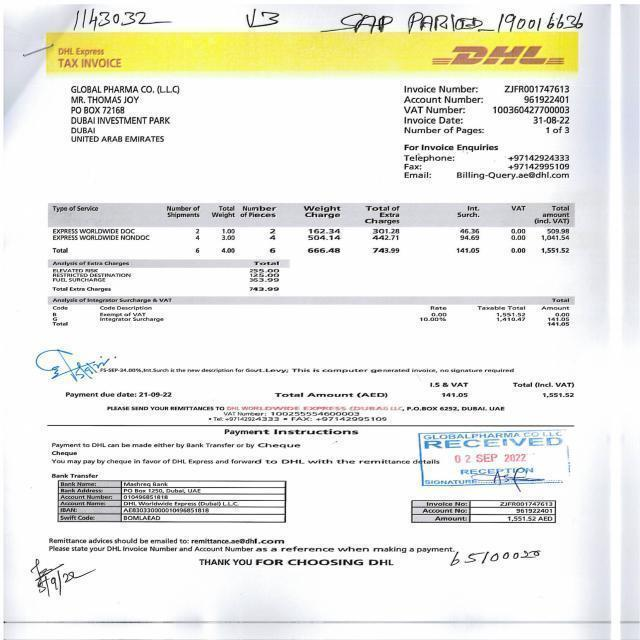ROI: (47, 201, 574, 254), (47, 296, 574, 333), (397, 83, 573, 183), (48, 427, 445, 470), (38, 472, 300, 523), (417, 428, 576, 488), (104, 401, 504, 424), (46, 534, 455, 554), (47, 260, 289, 292), (317, 6, 584, 33), (70, 80, 184, 142), (408, 498, 560, 526), (429, 42, 570, 68), (98, 367, 518, 375), (35, 346, 109, 385), (72, 4, 174, 30), (29, 557, 96, 595), (194, 557, 396, 569), (448, 551, 549, 567), (54, 47, 127, 68), (270, 390, 394, 402), (243, 0, 283, 32), (511, 382, 582, 398), (429, 380, 480, 400), (63, 391, 176, 397)
